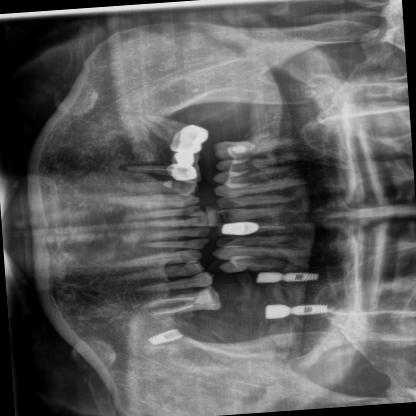Bicon: (286, 300, 332, 318), (146, 327, 186, 346), (272, 269, 320, 284)
